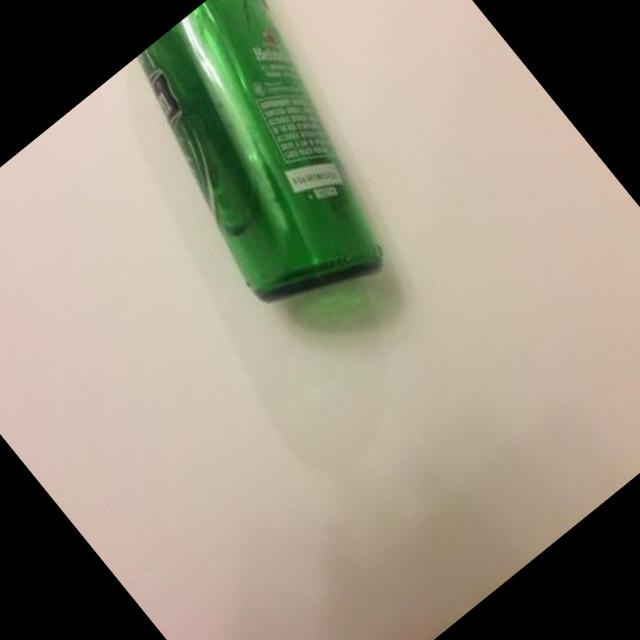BotolKaca: (91, 0, 456, 346)
